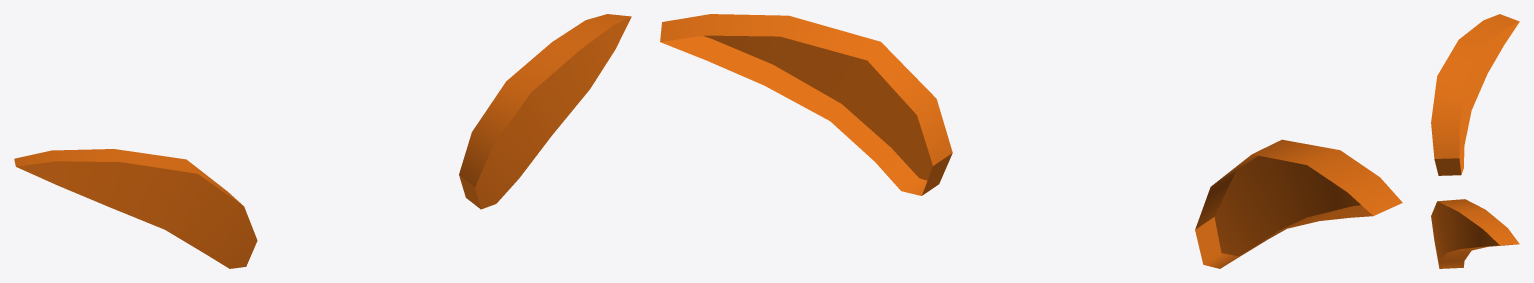
File: Brow_Orange_2.fbx
3 views of the same model, side by side, from view 1: azimuth 30°, elevation 25°; view 2: azimuth 150°, elevation 25°; view 3: azimuth 270°, elevation 25° (orthographic). The views are drawn at different scales.
Visible parts, largest first — view 1: Brow_Orange_2; view 2: Brow_Orange_2; view 3: Brow_Orange_2.
Part boxes in pixels (box(x1,y1,x2,y2)): Brow_Orange_2: box(14, 14, 631, 268); Brow_Orange_2: box(660, 14, 1402, 268); Brow_Orange_2: box(1431, 14, 1519, 268).
Bounding box in the file's own units: 27.94 × 5.35 × 4.54.
